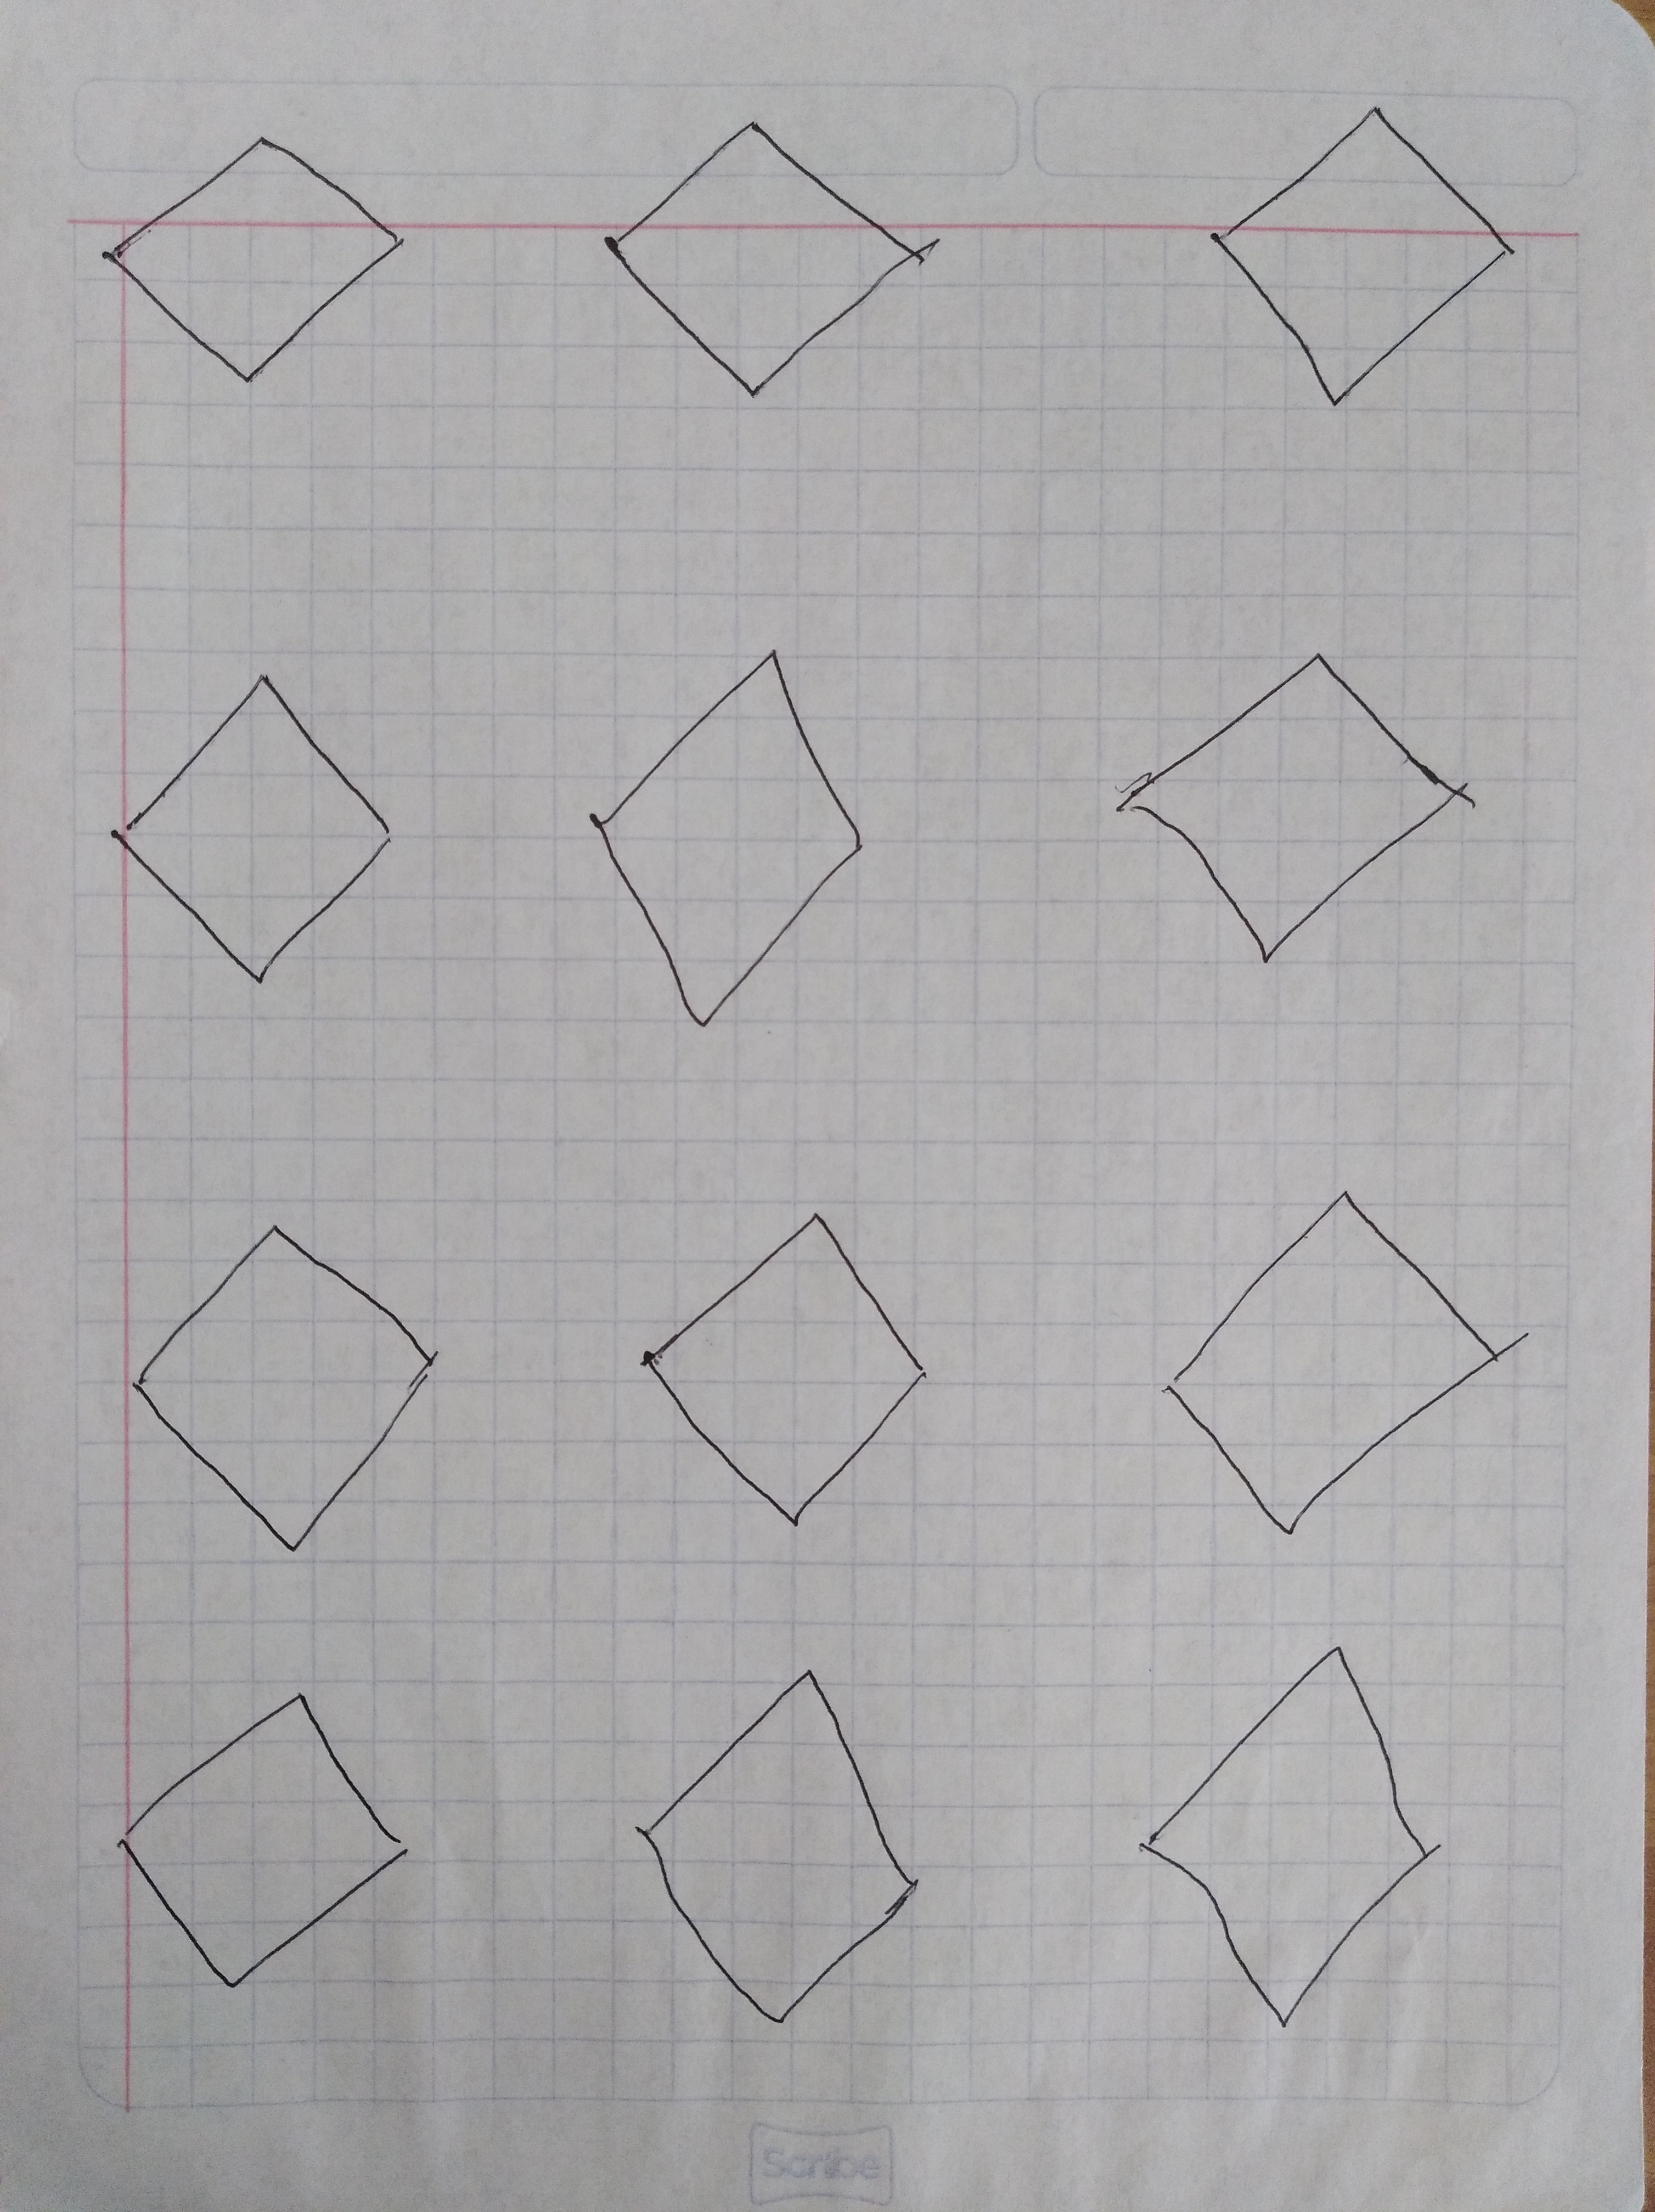decision: (1135, 1156, 1556, 1562), (1100, 605, 1495, 996), (1111, 1626, 1472, 2052), (92, 1189, 476, 1574), (551, 622, 897, 1046), (595, 1649, 951, 2057), (579, 87, 963, 436), (1175, 87, 1542, 434), (76, 652, 429, 1004), (621, 1183, 954, 1552), (87, 1663, 436, 2010), (76, 97, 445, 414)
